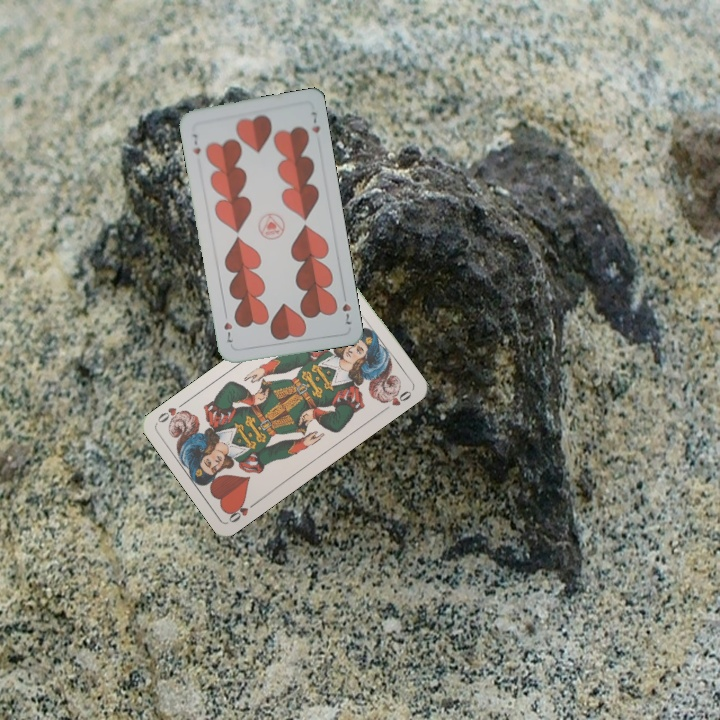H7: (338, 289, 354, 328), (189, 130, 203, 157)
HO: (224, 497, 261, 525)
